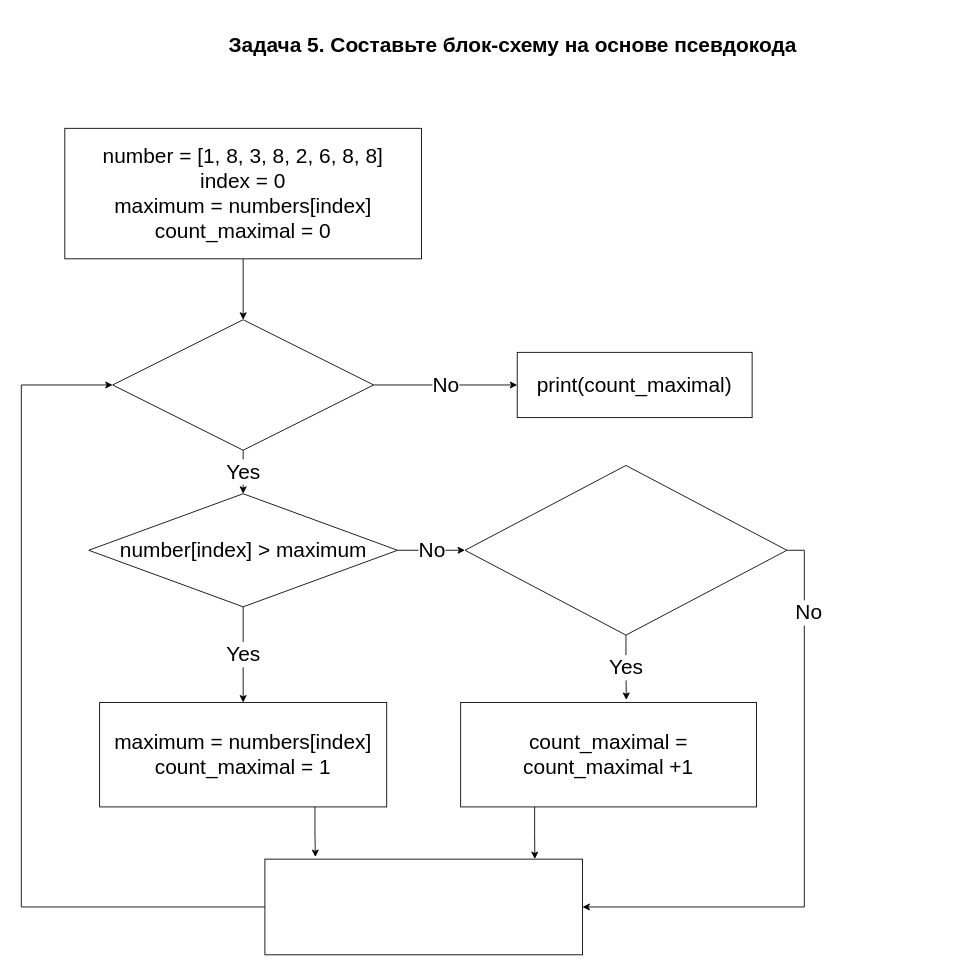
Some shapes in this 959 by 970 pixel diagram are drawn without their labels. Each missing label, with the centre of its shape:
index < numbers.length: point 243,384
index = index + 1: point 423,906
number[index] == maximum: point 625,550
